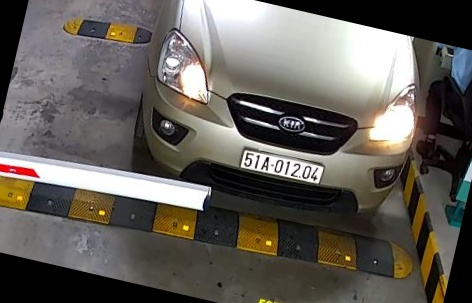plate: (235, 142, 326, 191)
